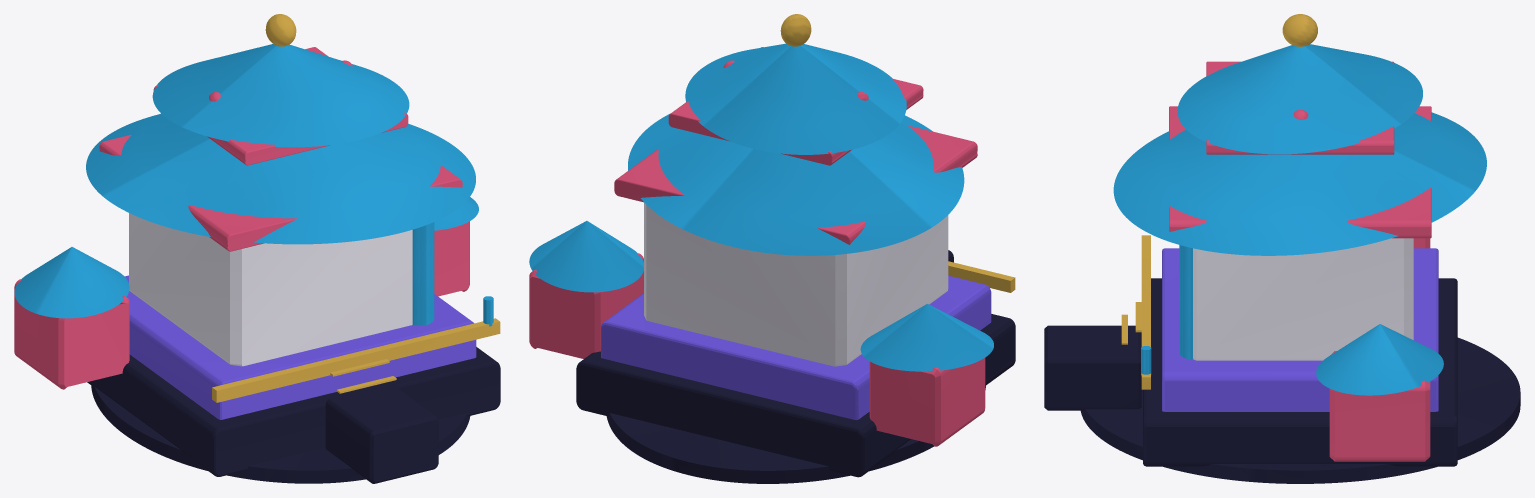
File: 0805_中国建筑图鉴_太和殿.glb
The picture shows the model from 3 angles, left to right: view 1: azimuth 30°, elevation 25°; view 2: azimuth 150°, elevation 25°; view 3: azimuth 270°, elevation 25°; orthographic projection. The views are drawn at different scales.
Visible parts, largest first — view 1: card_0805; view 2: card_0805; view 3: card_0805.
Boxes of the visible parts, left/top/right/bottom form: card_0805: left=14, top=14, right=500, bottom=483; card_0805: left=529, top=14, right=1015, bottom=483; card_0805: left=1044, top=14, right=1520, bottom=483.
Bounding box in the file's own units: 1.23 × 1 × 1.11.
